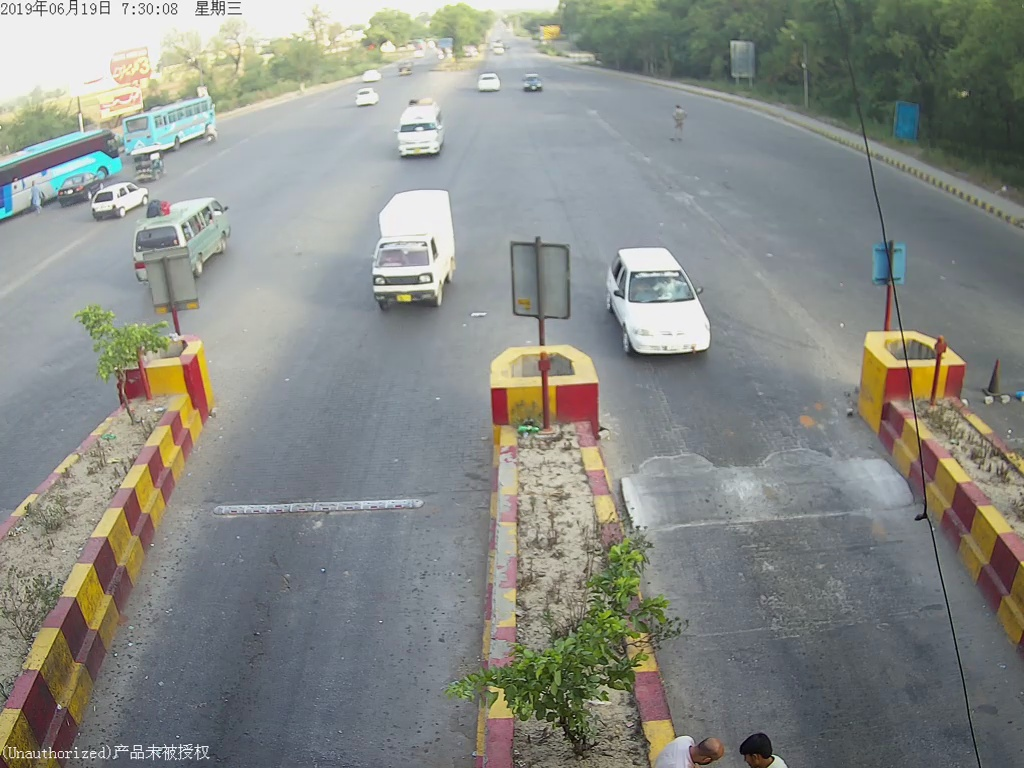Cat-1: (609, 245, 729, 366), (364, 195, 467, 316)
Cat-2: (388, 97, 459, 164)
